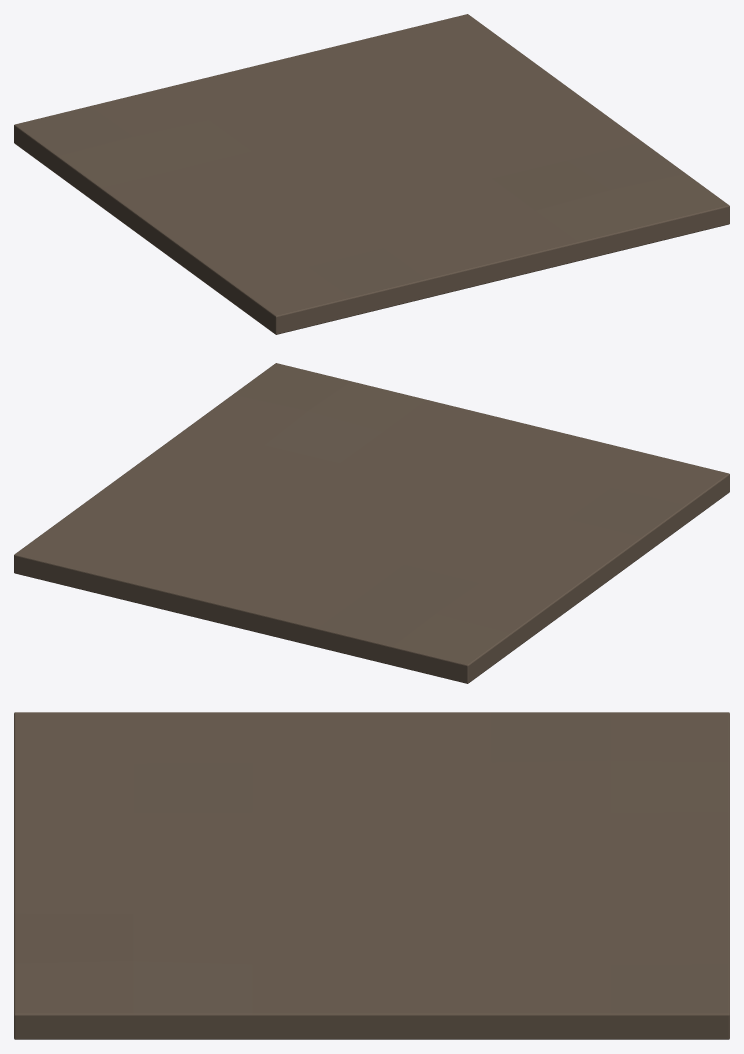
File: SM_MineGround_Pit_B.fbx
3 views of the same model, one above another, from view 1: azimuth 30°, elevation 25°; view 2: azimuth 150°, elevation 25°; view 3: azimuth 270°, elevation 25° (orthographic). The views are drawn at different scales.
Parts seen in each view (by area): view 1: SM_MineGround_Pit_B.001; view 2: SM_MineGround_Pit_B.001; view 3: SM_MineGround_Pit_B.001.
Boxes of the visible parts, x1=… form: SM_MineGround_Pit_B.001: x1=14, y1=14, x2=729, y2=334; SM_MineGround_Pit_B.001: x1=14, y1=363, x2=729, y2=683; SM_MineGround_Pit_B.001: x1=14, y1=712, x2=729, y2=1039.
Bounding box in the file's own units: 600 × 600 × 26.6.
